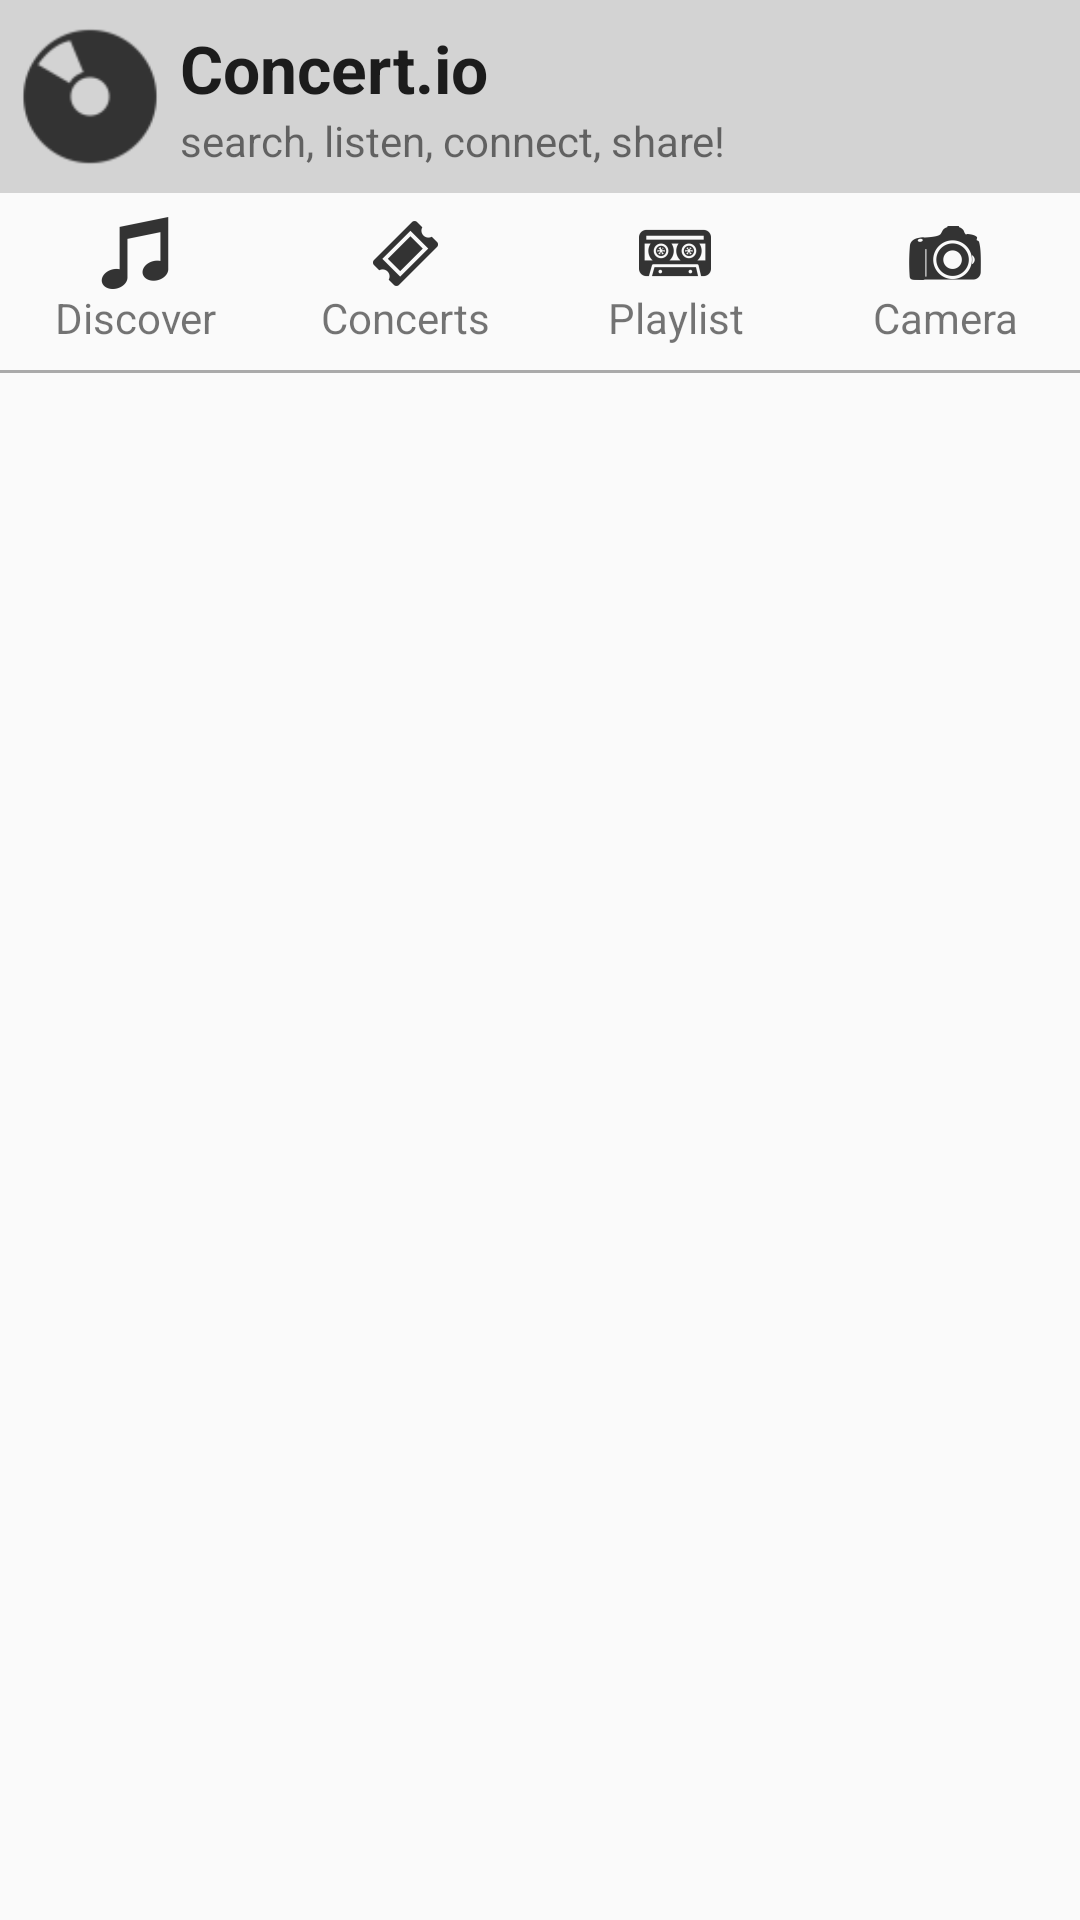

Where icons sit on this 1080 × 1920 app screen, as bbox=[x1, y1, x2, y2]:
cassette: bbox=[639, 230, 711, 276]
note: bbox=[101, 217, 169, 289]
record: bbox=[23, 29, 157, 164]
ticket: bbox=[373, 221, 438, 286]
